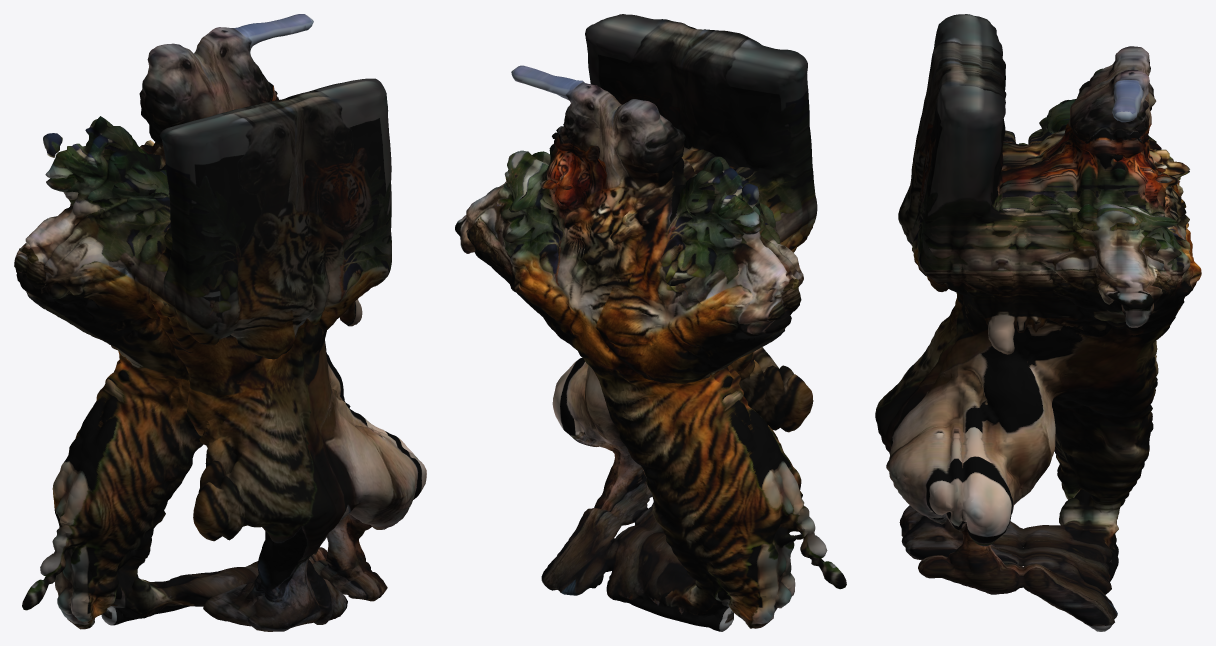
3 renders of one model, left to right at view 1: azimuth 30°, elevation 25°; view 2: azimuth 150°, elevation 25°; view 3: azimuth 270°, elevation 25°, orthographic. The views are drawn at different scales.
Parts seen in each view (by area): view 1: tmp3h44sf0f; view 2: tmp3h44sf0f; view 3: tmp3h44sf0f.
Part boxes in pixels (x1=…): tmp3h44sf0f: x1=14, y1=14, x2=426, y2=631; tmp3h44sf0f: x1=455, y1=14, x2=846, y2=631; tmp3h44sf0f: x1=875, y1=14, x2=1201, y2=631.
Bounding box in the file's own units: 0.6938 × 0.9837 × 0.5465.
1 material, 1 textured.
